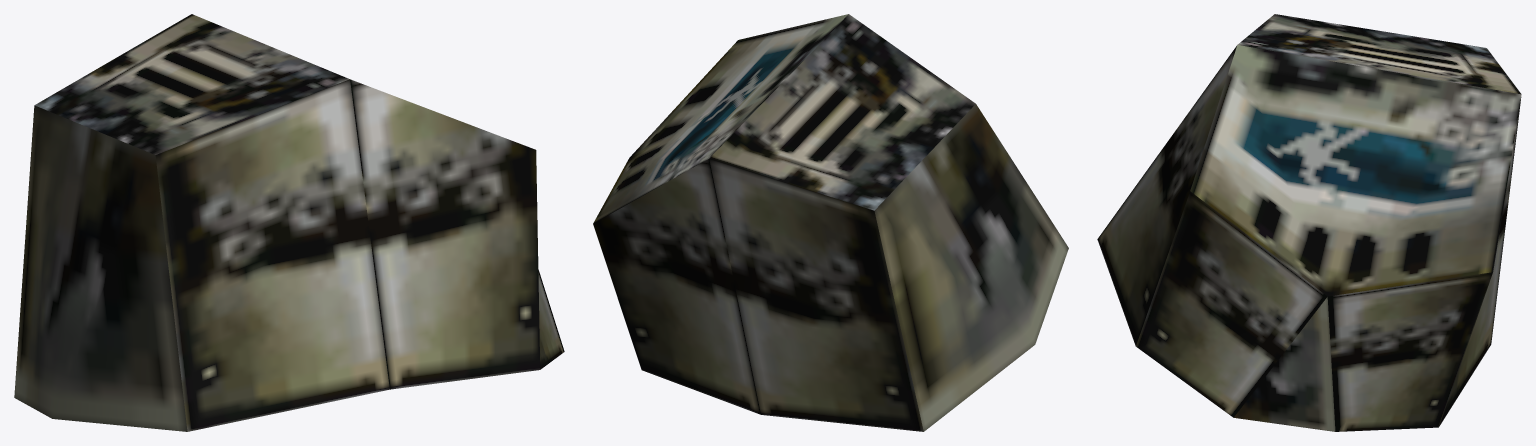
Rendered from USA - Armor - Avenger - Damage State 2 - AVAvnger_D2.glb.
3 renders of one model, left to right at view 1: azimuth 30°, elevation 25°; view 2: azimuth 150°, elevation 25°; view 3: azimuth 270°, elevation 25°, orthographic. The views are drawn at different scales.
Visible parts, largest first — view 1: AVAVNGER_D2; view 2: AVAVNGER_D2; view 3: AVAVNGER_D2.
Part boxes in pixels (left/top/right/bottom): AVAVNGER_D2: left=14, top=14, right=564, bottom=431; AVAVNGER_D2: left=593, top=14, right=1068, bottom=431; AVAVNGER_D2: left=1097, top=14, right=1521, bottom=431.
Size of the model in its own units: 9.44 by 7.12 by 8.39.
1 material, 1 textured.
